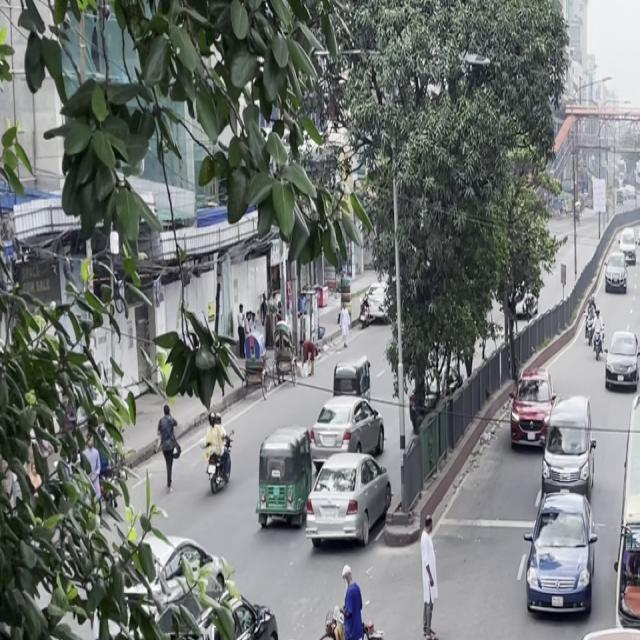bicycle: (311, 575, 398, 640)
bus: (472, 588, 640, 640), (608, 380, 640, 640)
car: (520, 488, 601, 630), (302, 444, 394, 556), (540, 394, 596, 506), (508, 366, 560, 455), (603, 322, 640, 397), (604, 253, 626, 298)
motorbike: (198, 413, 237, 505)
rickshaw: (253, 421, 316, 538)
